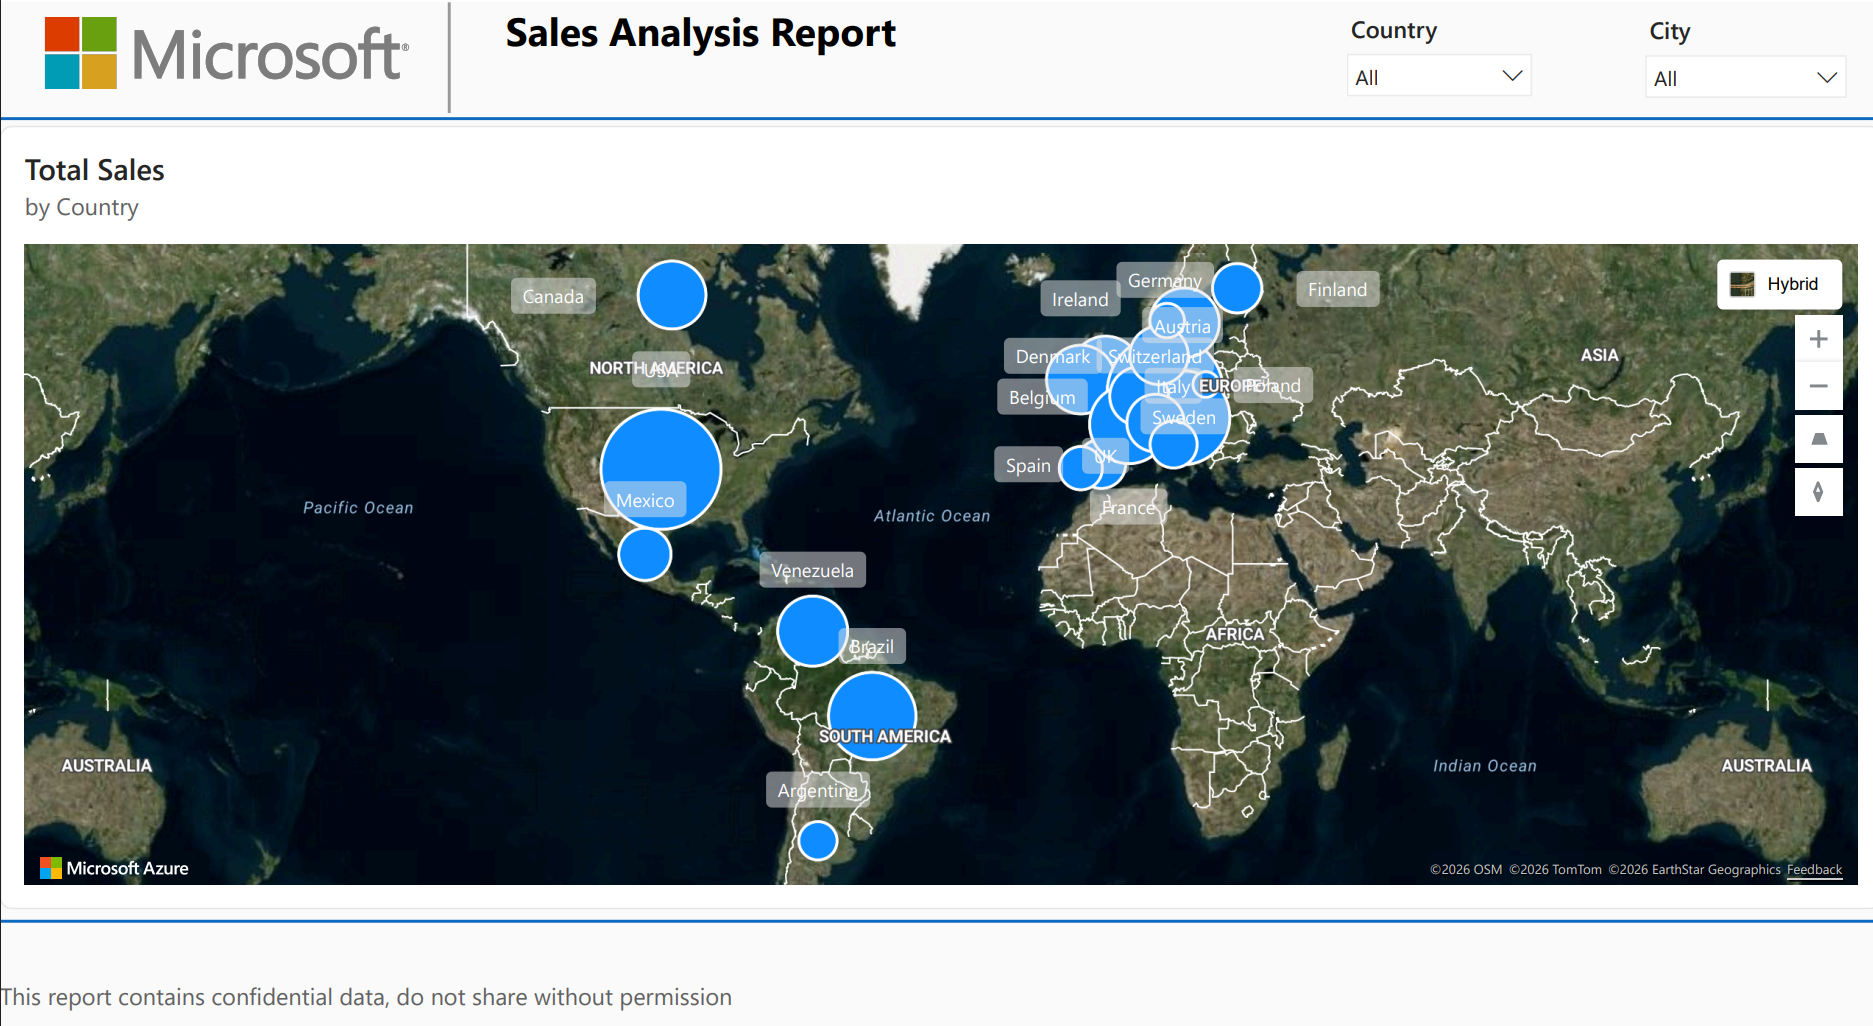

This screenshot's page, from the dashboard's own definition file:
{"tool":"powerbi","page":{"name":"Sales On Map","canvas":[1280,720],"ordinal":3},"visuals":[{"type":"shape","box":[0,75.5,1280.3,8.2],"z":0},{"type":"shape","box":[0,617.5,1280.3,16.5],"z":1000},{"type":"image","box":[24.7,1.4,259.3,67.2],"z":2000},{"type":"textbox","box":[344.4,1.4,469.3,41.2],"z":3000},{"type":"textbox","box":[0,664.8,596.9,24.7],"z":4000},{"type":"shape","box":[297.8,0,15.1,75.5],"z":5000},{"type":"slicer","fields":{"Values":["Customers.Country"]},"box":[911.2,6.9,135.8,68.6],"z":6000},{"type":"slicer","fields":{"Values":["Customers.City"]},"box":[1114.2,8.2,146.8,68.6],"z":7000},{"type":"azureMap","fields":{"Category":["Customers.Country"],"Size":["Order_Details.Total Sales"]},"box":[0,84.5,1280,533.2],"z":7001}]}

Visuals, with their boxes in screenshot pixels (x1, y1, x2, y2), scaled from the page's 1280x720 canvas onto the 1873x1026 screenshot:
shape: <bbox>0, 108, 1872, 119</bbox>
shape: <bbox>0, 880, 1872, 903</bbox>
image: <bbox>36, 2, 416, 98</bbox>
textbox: <bbox>504, 2, 1191, 61</bbox>
textbox: <bbox>0, 947, 873, 983</bbox>
shape: <bbox>436, 0, 458, 108</bbox>
slicer - Customers.Country: <bbox>1333, 10, 1532, 108</bbox>
slicer - Customers.City: <bbox>1630, 12, 1845, 109</bbox>
azureMap - Customers.Country x Order_Details.Total Sales: <bbox>0, 120, 1872, 880</bbox>
